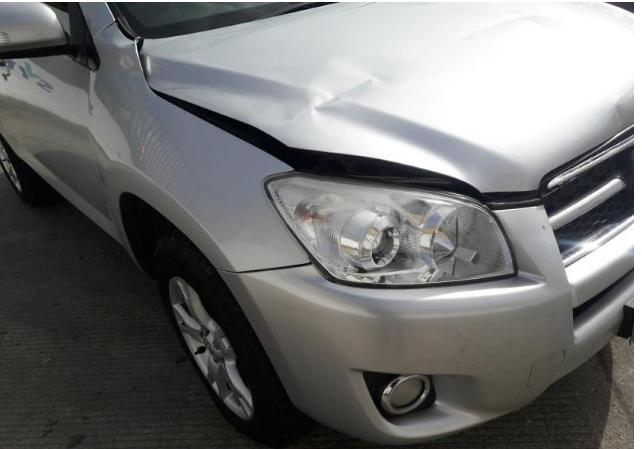Back-wheel: (0, 131, 46, 202)
Fender: (89, 21, 313, 274)
Front-bumper: (217, 206, 634, 446)
Front-door: (0, 55, 115, 227)
Front-wheel: (153, 231, 290, 437)
Grille: (542, 144, 635, 269)
Headlight: (260, 171, 517, 290)
Hood: (139, 0, 635, 206)
License-plate: (621, 293, 634, 345)
Mirror: (0, 0, 99, 68)
Rocker-panel: (0, 127, 125, 245)
Windshield: (114, 3, 332, 38)
